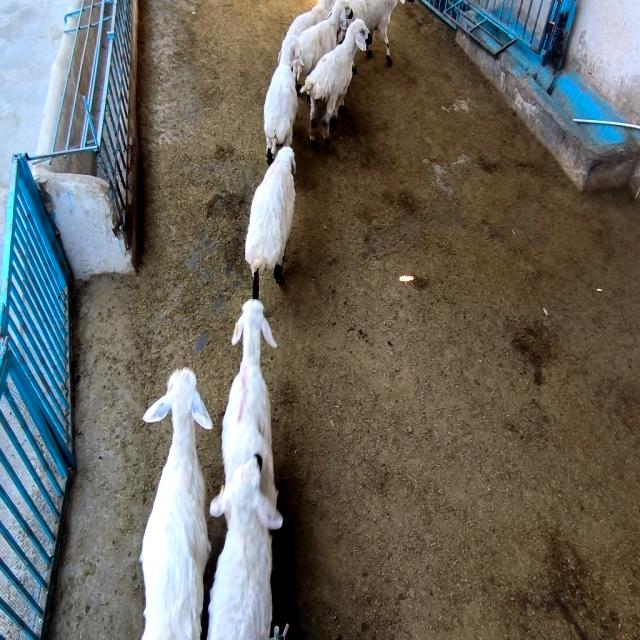sheep: (140, 368, 212, 638), (208, 455, 282, 639), (222, 300, 278, 507), (301, 18, 369, 147), (245, 147, 295, 272), (264, 35, 302, 164), (299, 0, 350, 76), (349, 0, 405, 64), (286, 0, 335, 36)
